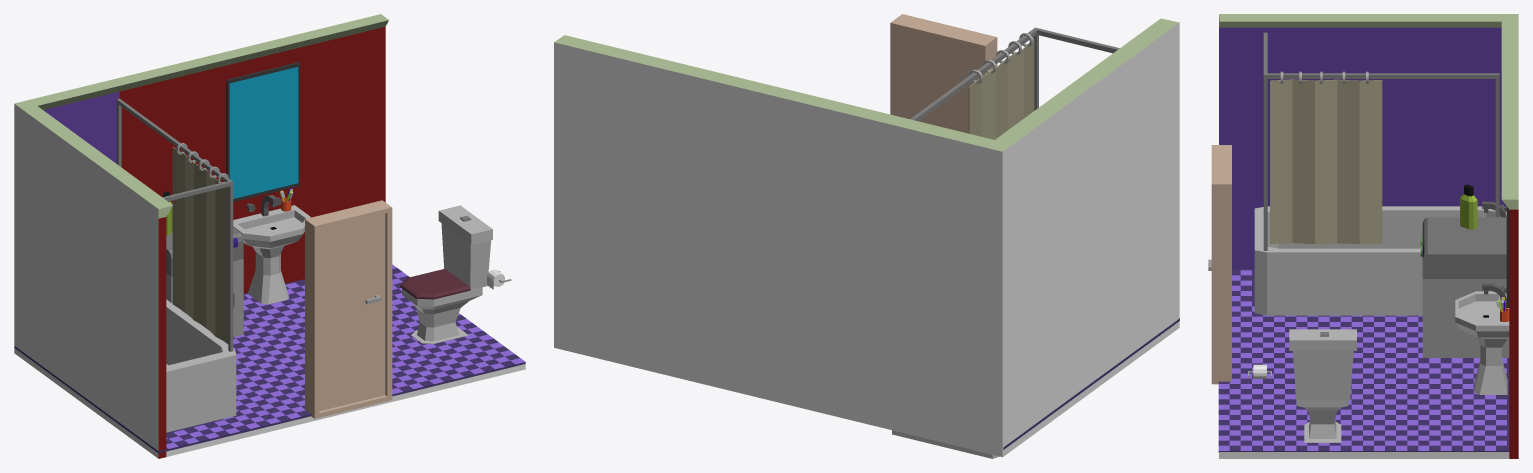
The model's file is Bathroom.fbx.
The picture shows the model from 3 angles, left to right: view 1: azimuth 30°, elevation 25°; view 2: azimuth 150°, elevation 25°; view 3: azimuth 270°, elevation 25°; orthographic projection. The views are drawn at different scales.
Parts seen in each view (by area): view 1: Куб, Cube.001, Куб.042, Куб.031, Куб.015, Куб.002, Куб.023, Куб.037, Куб.038, Куб.016, Куб.011; view 2: Куб, Cube.001, Куб.015, Куб.016; view 3: Куб, Куб.042, Куб.015, Куб.002, Куб.011, Cube.001, Куб.038, Куб.023, Куб.016, Куб.037, Куб.036, Куб.031.
Boxes of the visible parts, x1,y1,x2,y2 form: Куб: (14, 14, 525, 458); Cube.001: (305, 200, 392, 418); Куб.042: (14, 264, 525, 453); Куб.031: (226, 62, 299, 201); Куб.015: (172, 147, 228, 343); Куб.002: (166, 299, 236, 432); Куб.023: (233, 205, 310, 304); Куб.037: (400, 269, 482, 343); Куб.038: (438, 205, 492, 289); Куб.016: (116, 98, 233, 351); Куб.011: (166, 227, 243, 337); Куб: (554, 18, 1179, 457); Cube.001: (890, 14, 997, 133); Куб.015: (968, 38, 1034, 139); Куб.016: (910, 27, 1119, 121); Куб: (1219, 14, 1518, 458); Куб.042: (1218, 269, 1509, 452); Куб.015: (1270, 79, 1382, 244); Куб.002: (1254, 206, 1506, 315); Куб.011: (1422, 217, 1509, 357); Cube.001: (1211, 145, 1231, 384); Куб.038: (1289, 329, 1356, 400); Куб.023: (1455, 291, 1509, 394); Куб.016: (1263, 32, 1499, 250); Куб.037: (1295, 389, 1348, 442); Куб.036: (1460, 184, 1477, 229); Куб.031: (1506, 206, 1509, 307).
Bounding box in the file's own units: 1016 × 678 × 715.
